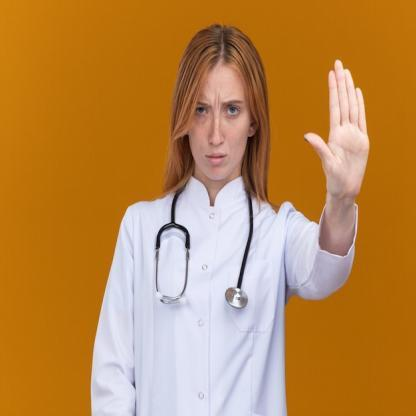stop: (302, 60, 370, 204)
